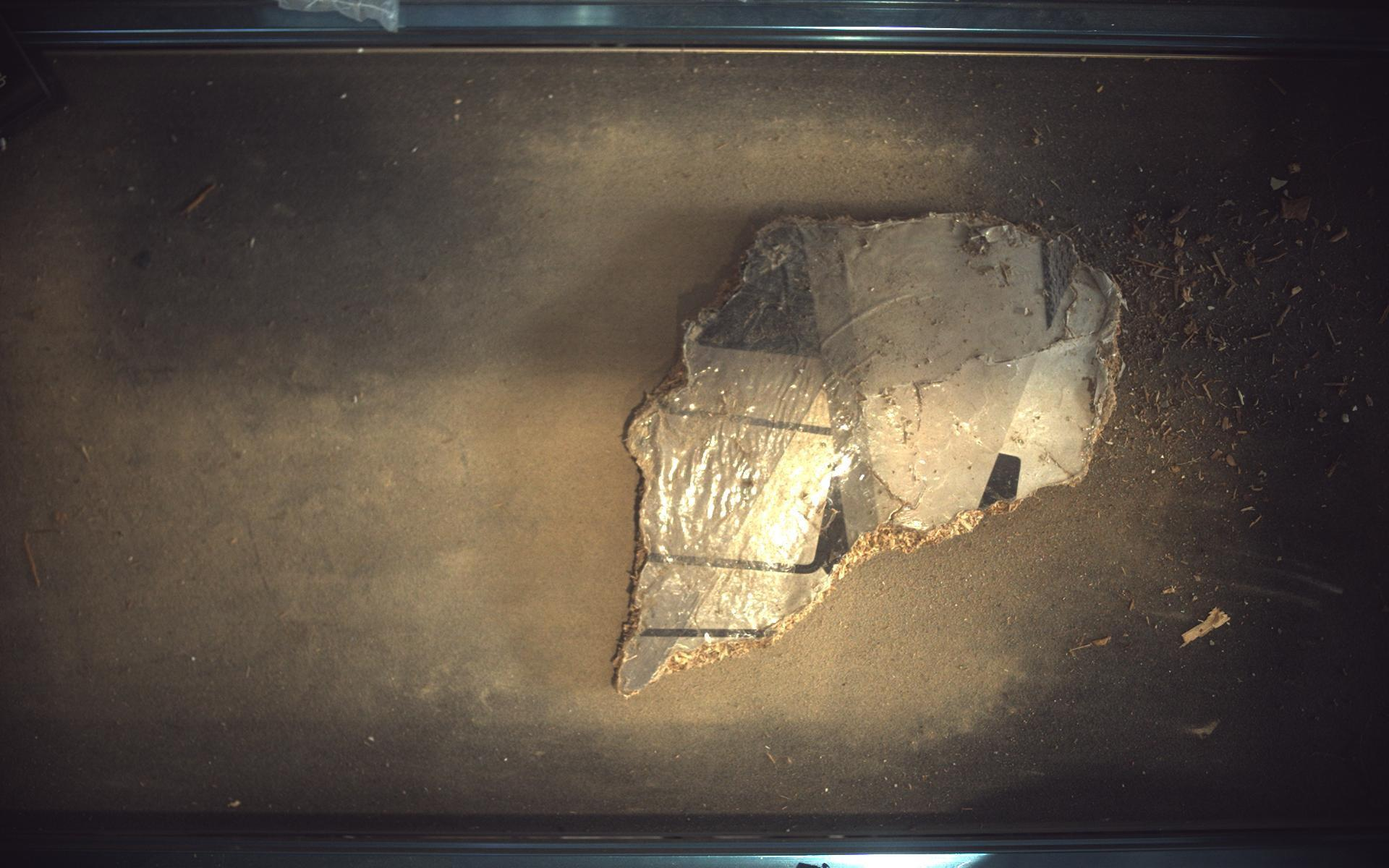wood: (616, 213, 1123, 695)
